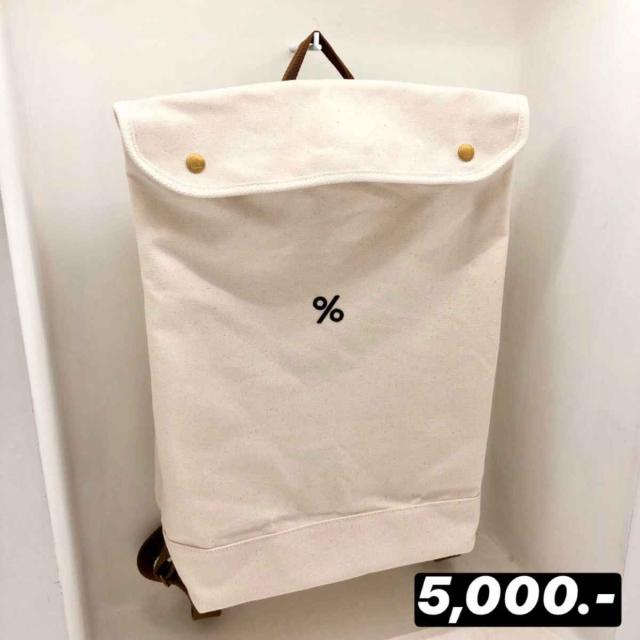Handbag: (120, 11, 506, 616)
